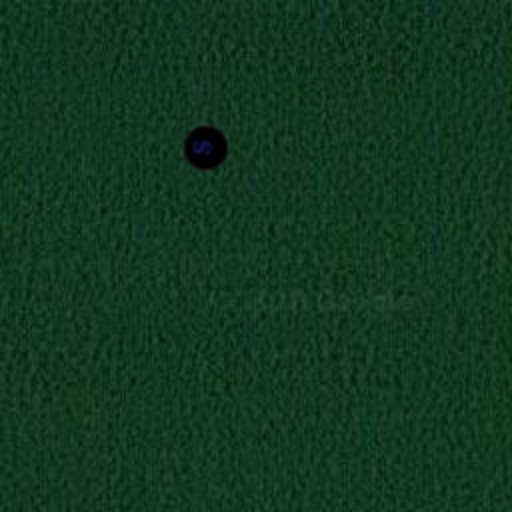circle: (180, 122, 232, 174)
